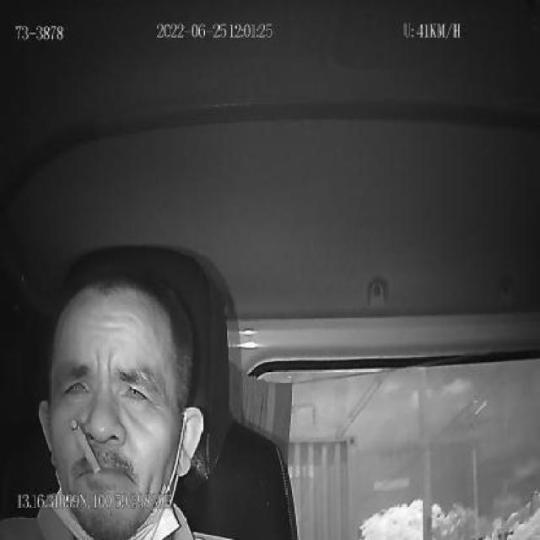smoking: (68, 419, 102, 474)
